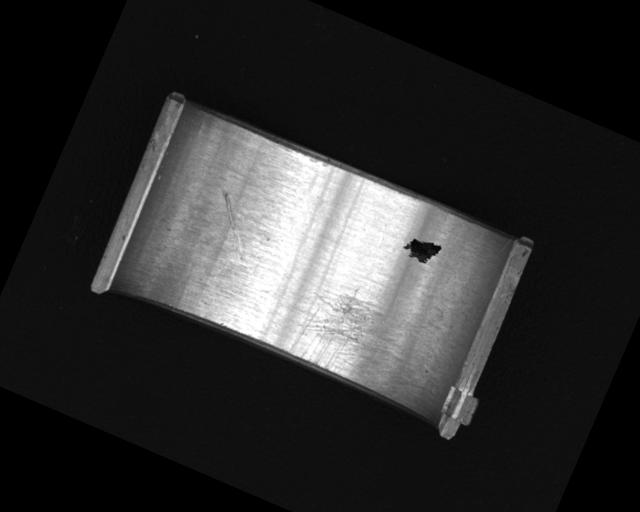blot: (399, 230, 443, 268)
nick: (199, 189, 263, 259)
scratch: (287, 273, 433, 404)
